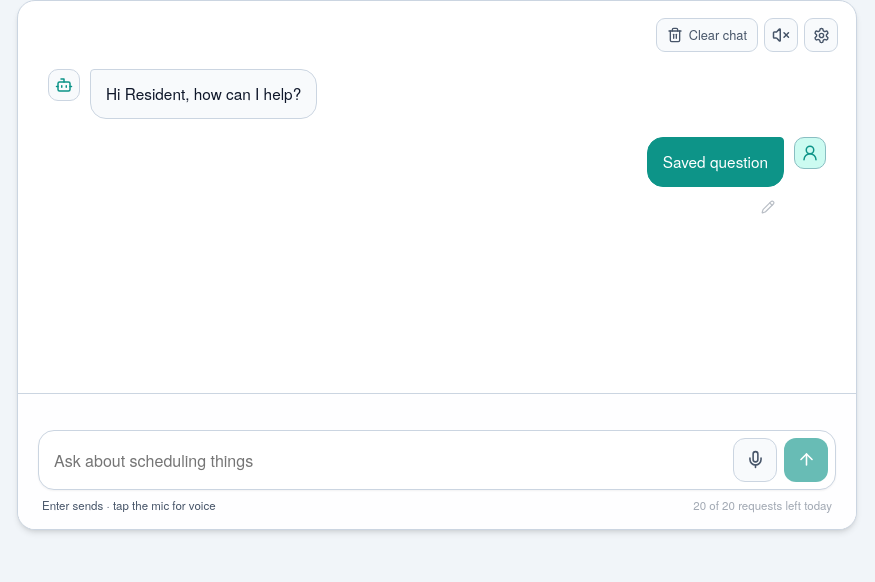
quiet support handoff in chat › preserves the conversation when clearing fails and disables clearing for busy conversations
This screenshot has width=875, height=582.
Click the button with class "chat-clear-button". click: (707, 35)
box: [656, 18, 758, 52]
Wait 3000 ms
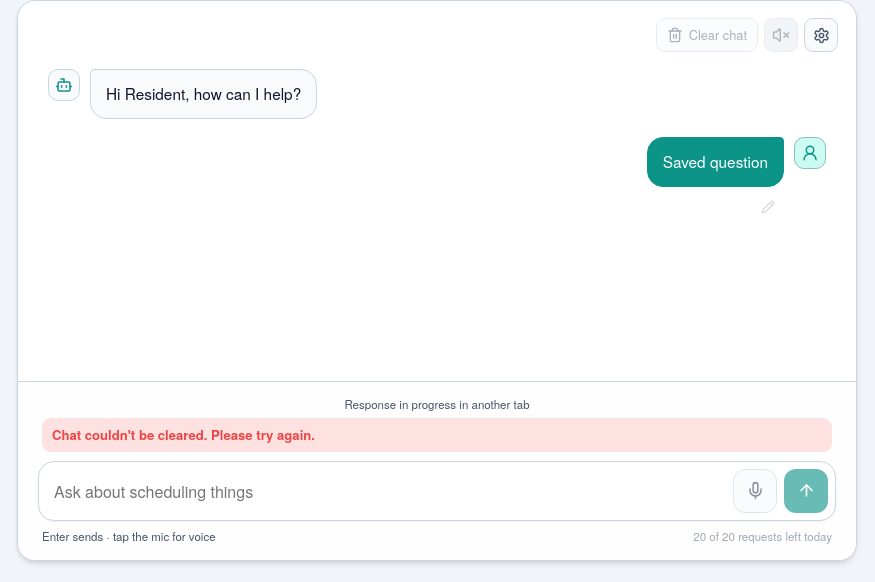
expect the text "Saved question" is shown: met, box [663, 150, 768, 174]
expect the text "Chat couldn't be cleared" is shown: met, box [52, 425, 315, 444]
expect the button with class "chat-clear-button" is disabled: met, box [656, 18, 758, 52]
